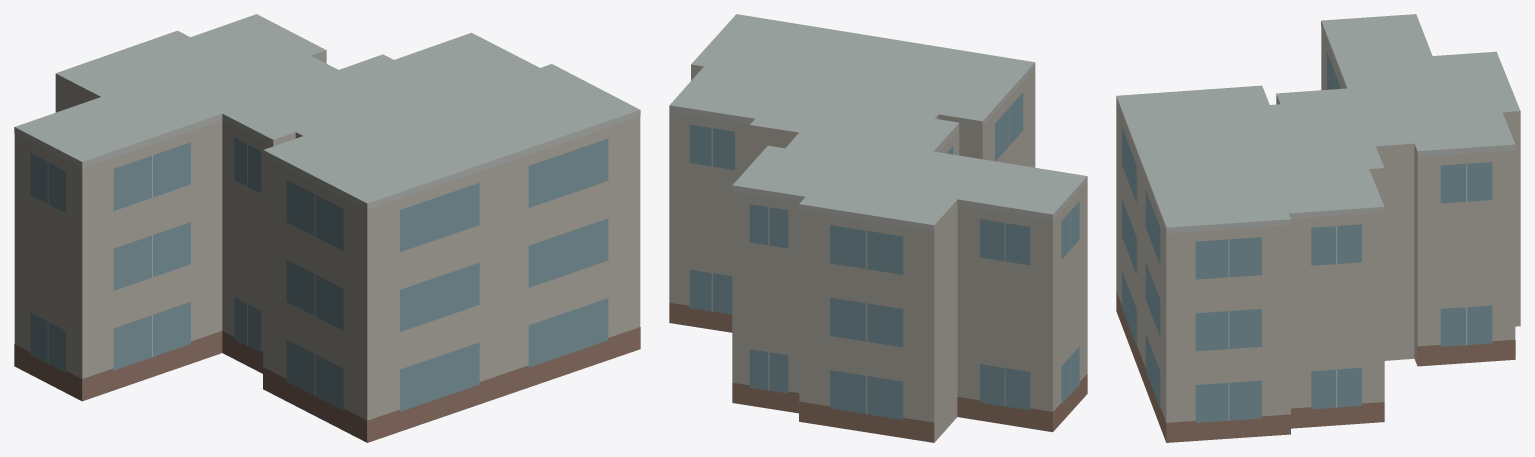
Rendered from survey-upis-33012955.glb.
The picture shows the model from 3 angles, left to right: view 1: azimuth 30°, elevation 25°; view 2: azimuth 150°, elevation 25°; view 3: azimuth 270°, elevation 25°; orthographic projection. The views are drawn at different scales.
Parts seen in each view (by area): view 1: survey-upis-33012955.tmp; view 2: survey-upis-33012955.tmp; view 3: survey-upis-33012955.tmp.
Part boxes in pixels (x1,y1,x2,y2): survey-upis-33012955.tmp: (14,14,640,442); survey-upis-33012955.tmp: (669,14,1087,442); survey-upis-33012955.tmp: (1116,14,1520,442).
Size of the model in its own units: 19.5 by 9.15 by 15.59.
